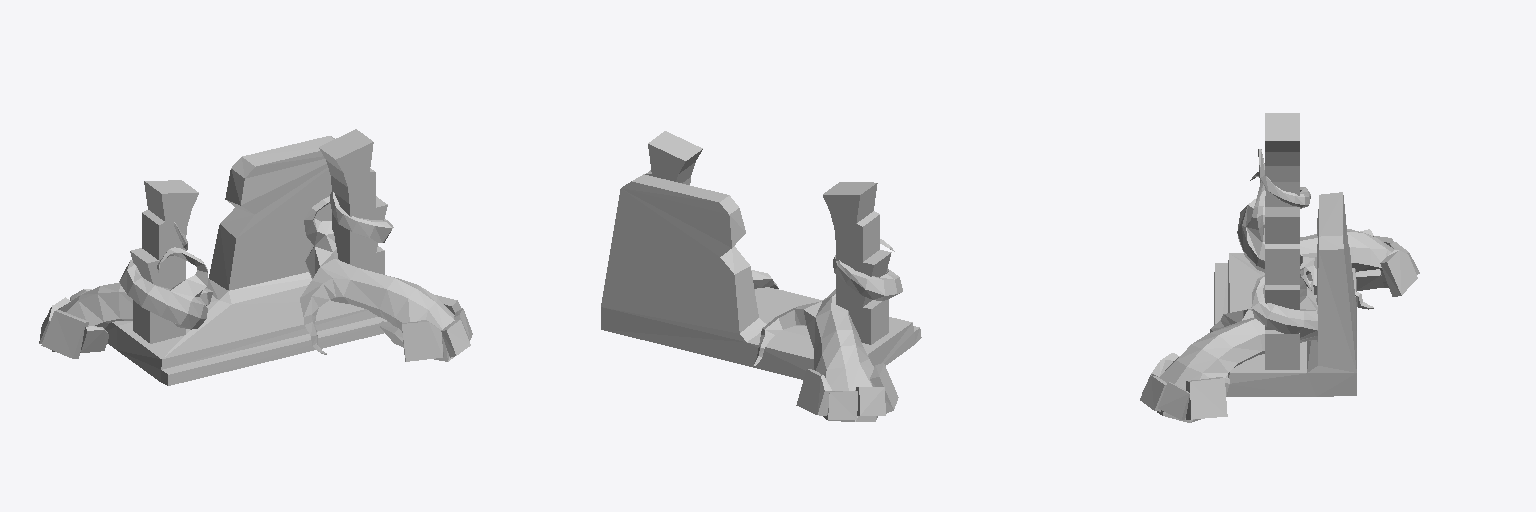
File: Portal 1.obj
3 views of the same model, side by side, from view 1: azimuth 30°, elevation 25°; view 2: azimuth 150°, elevation 25°; view 3: azimuth 270°, elevation 25° (orthographic).
Parts seen in each view (by area): view 1: Base_LOW_Base_LOW, Stones_LOW_Stones_LOW, Branches_LOW_Branches_LOW; view 2: Base_LOW_Base_LOW, Stones_LOW_Stones_LOW, Branches_LOW_Branches_LOW; view 3: Stones_LOW_Stones_LOW, Base_LOW_Base_LOW, Branches_LOW_Branches_LOW.
Boxes of the visible parts, x1,y1,x2,y2 form: Base_LOW_Base_LOW: [105, 136, 391, 385]; Stones_LOW_Stones_LOW: [39, 129, 472, 361]; Branches_LOW_Branches_LOW: [52, 191, 454, 361]; Base_LOW_Base_LOW: [601, 174, 921, 379]; Stones_LOW_Stones_LOW: [645, 131, 898, 419]; Branches_LOW_Branches_LOW: [751, 239, 902, 421]; Stones_LOW_Stones_LOW: [1140, 113, 1419, 419]; Base_LOW_Base_LOW: [1214, 192, 1356, 396]; Branches_LOW_Branches_LOW: [1157, 149, 1394, 422].
Size of the model in its own units: 4.48 by 2.33 by 3.2.